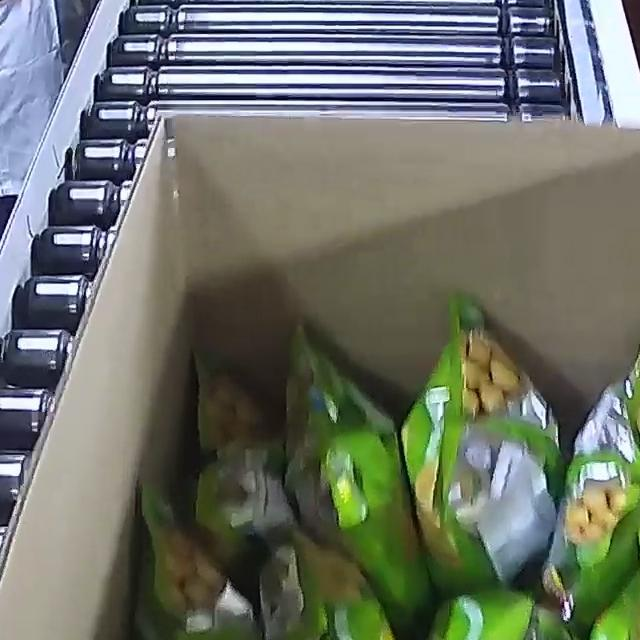yogurt: (109, 294, 640, 640)
